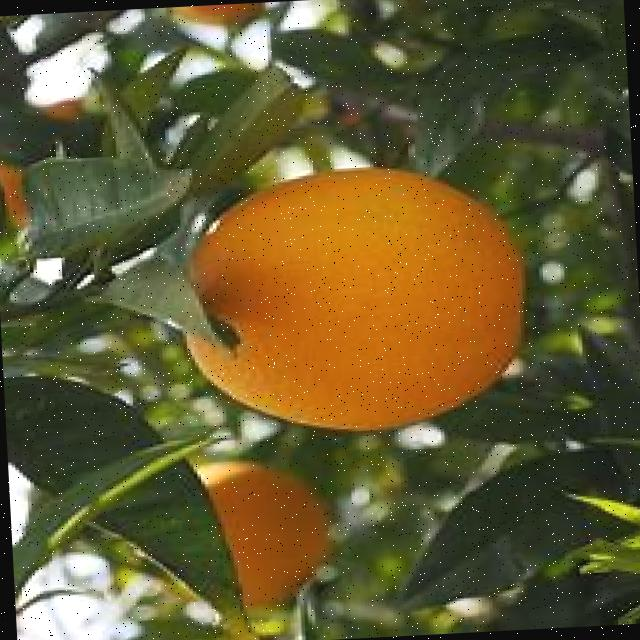Ripe: (170, 161, 537, 446)
